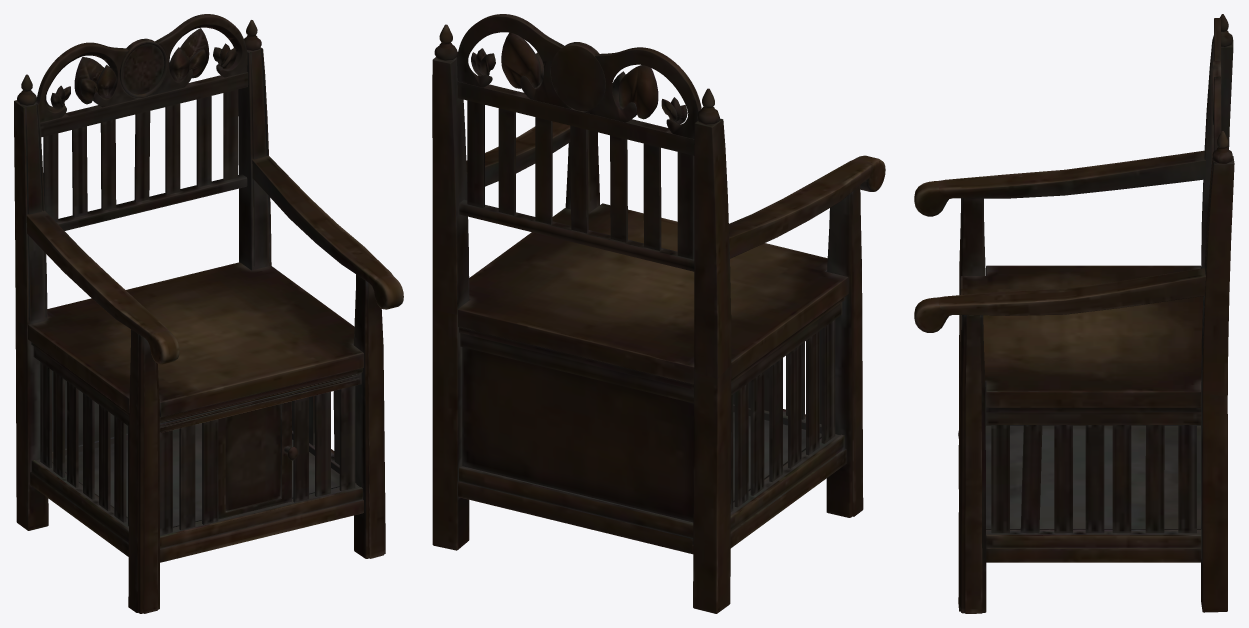
File: gallinera-chair.glb
3 views of the same model, side by side, from view 1: azimuth 30°, elevation 25°; view 2: azimuth 150°, elevation 25°; view 3: azimuth 270°, elevation 25° (orthographic). The views are drawn at different scales.
Parts seen in each view (by area): view 1: gallinera_chair; view 2: gallinera_chair; view 3: gallinera_chair.
Boxes of the visible parts, bbox=[...] form: gallinera_chair: bbox=[14, 14, 403, 613]; gallinera_chair: bbox=[432, 14, 885, 613]; gallinera_chair: bbox=[914, 14, 1234, 613].
Size of the model in its own units: 0.5808 by 1.03 by 0.6039.
Materials: 1 (1 with a texture image).
